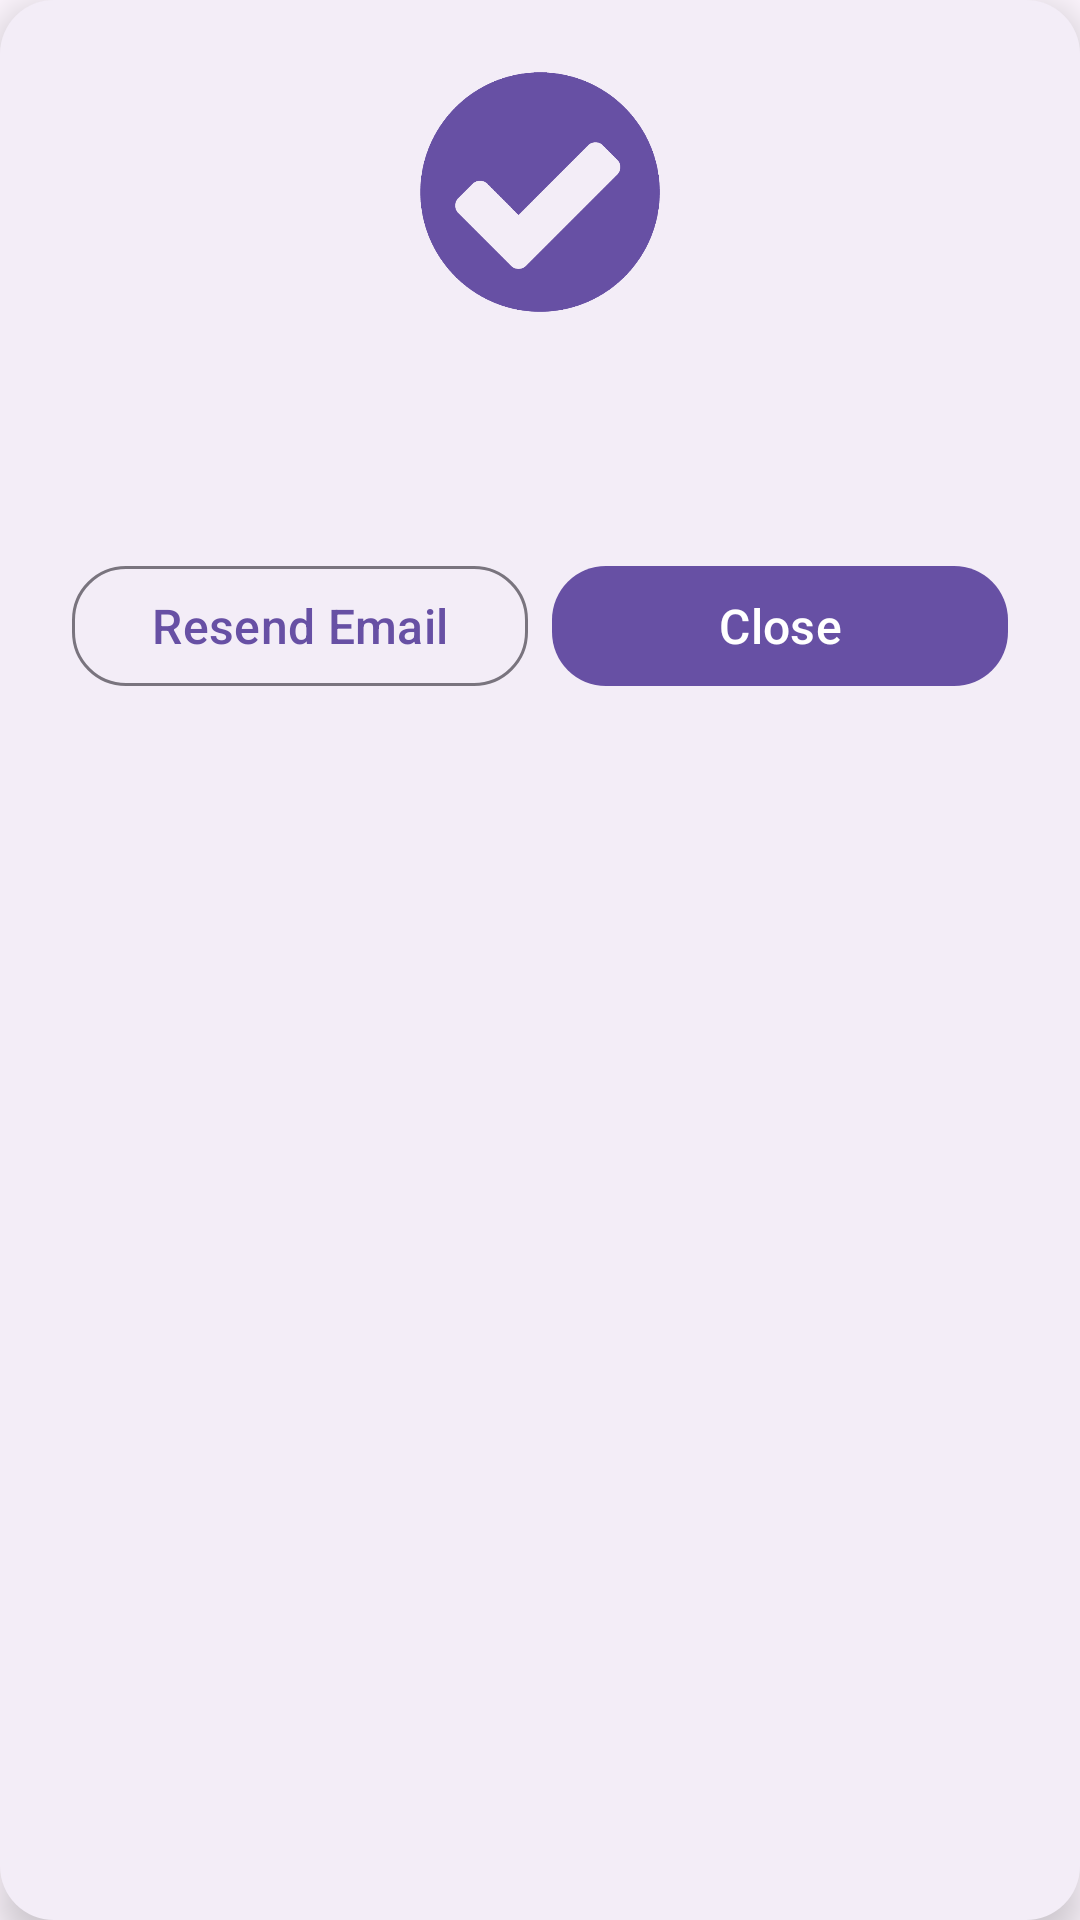

Where icons sit on this 1080w x 1920h app screen, as Rect(x1, y1, x2, y2):
tick: Rect(420, 72, 660, 312)
